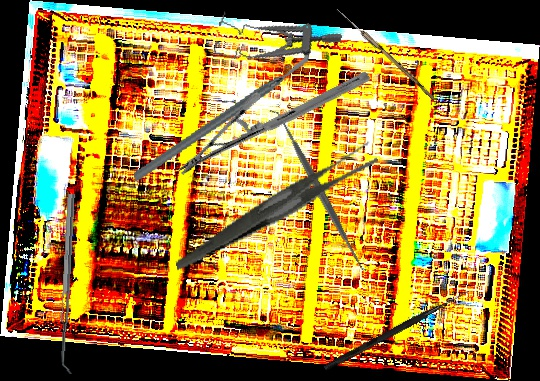Chopper: (115, 43, 330, 183)
Dressing Forceps: (159, 140, 392, 271)
Hook Surgical: (323, 287, 469, 373)
Needle Holder: (175, 14, 373, 233)
Spatula Surgical: (266, 103, 372, 277), (58, 193, 82, 375)
Speculum: (211, 1, 343, 85)
Surgical Spoon: (334, 6, 438, 102)
